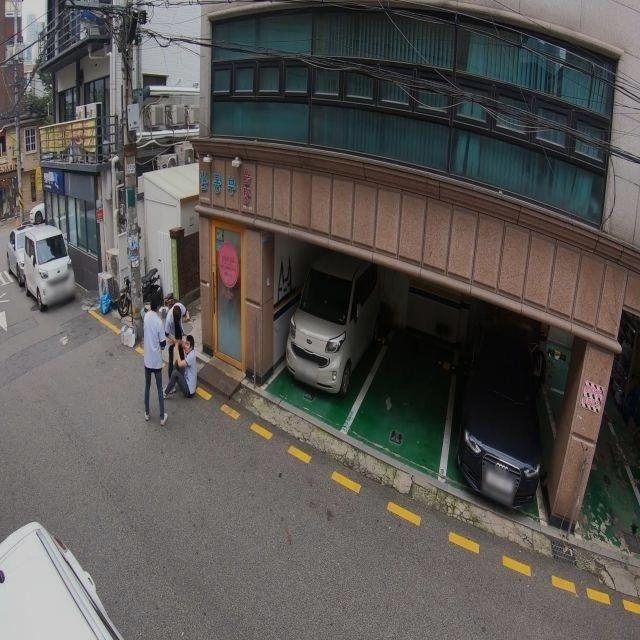non-fight: (141, 290, 167, 426), (163, 334, 199, 399), (165, 299, 190, 377)
